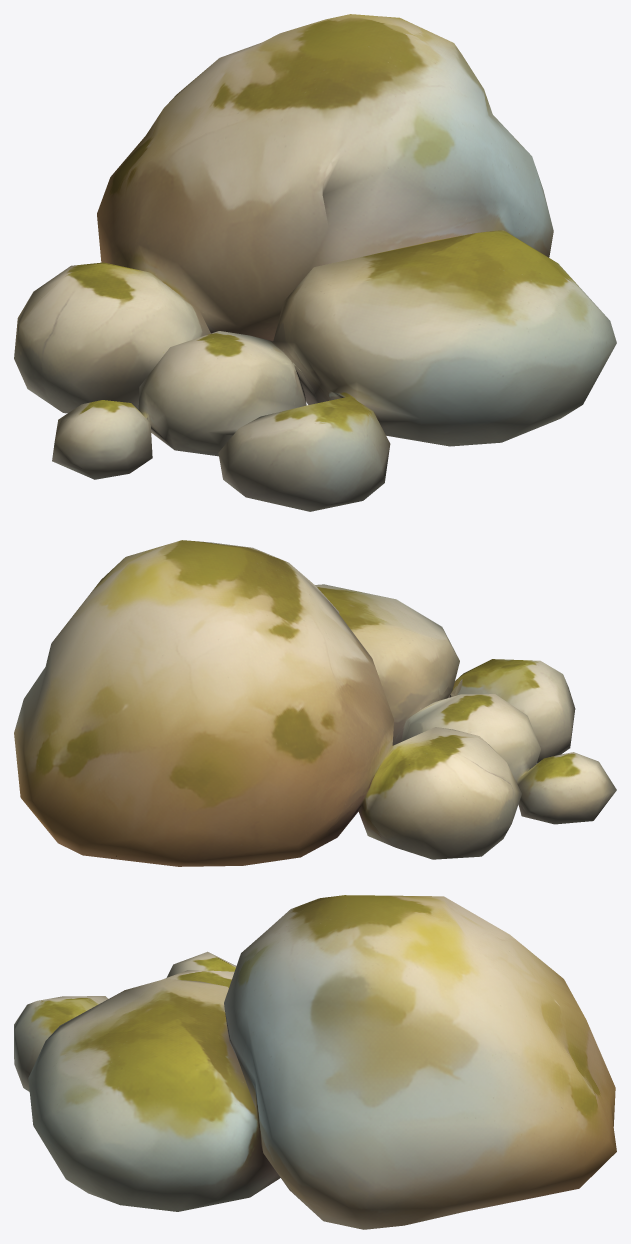
The model's file is pebbles.glb.
The picture shows the model from 3 angles, top to bottom: view 1: azimuth 30°, elevation 25°; view 2: azimuth 150°, elevation 25°; view 3: azimuth 270°, elevation 25°; orthographic projection. The views are drawn at different scales.
Visible parts, largest first — view 1: geometry_0.001; view 2: geometry_0.001; view 3: geometry_0.001.
Boxes of the visible parts, x1,y1,x2,y2 form: geometry_0.001: (14,14,616,511); geometry_0.001: (14,540,616,866); geometry_0.001: (14,895,616,1229).
Size of the model in its own units: 1.99 by 0.9801 by 1.99.
1 material, 1 textured.
